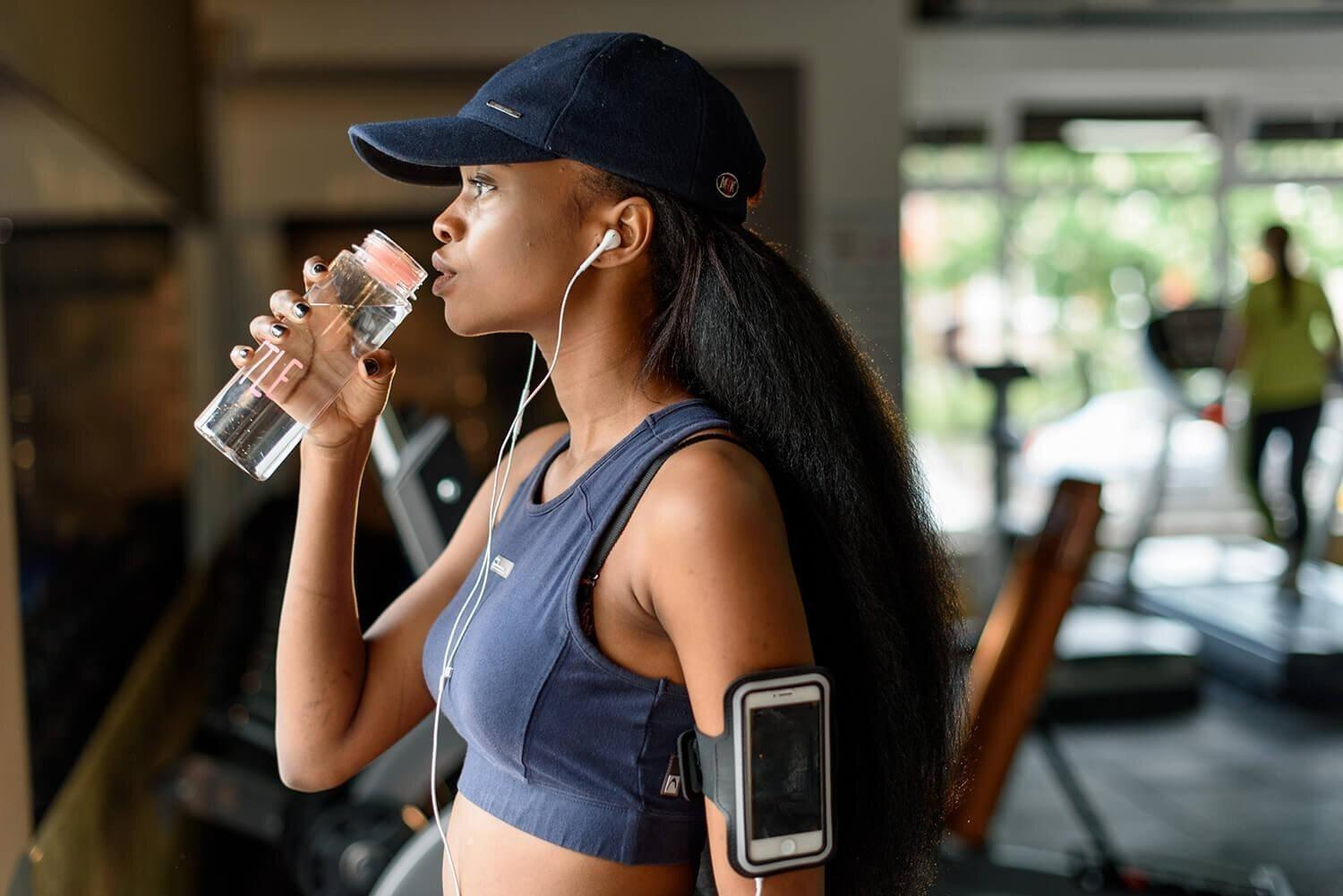gym bottle: (194, 228, 426, 480)
